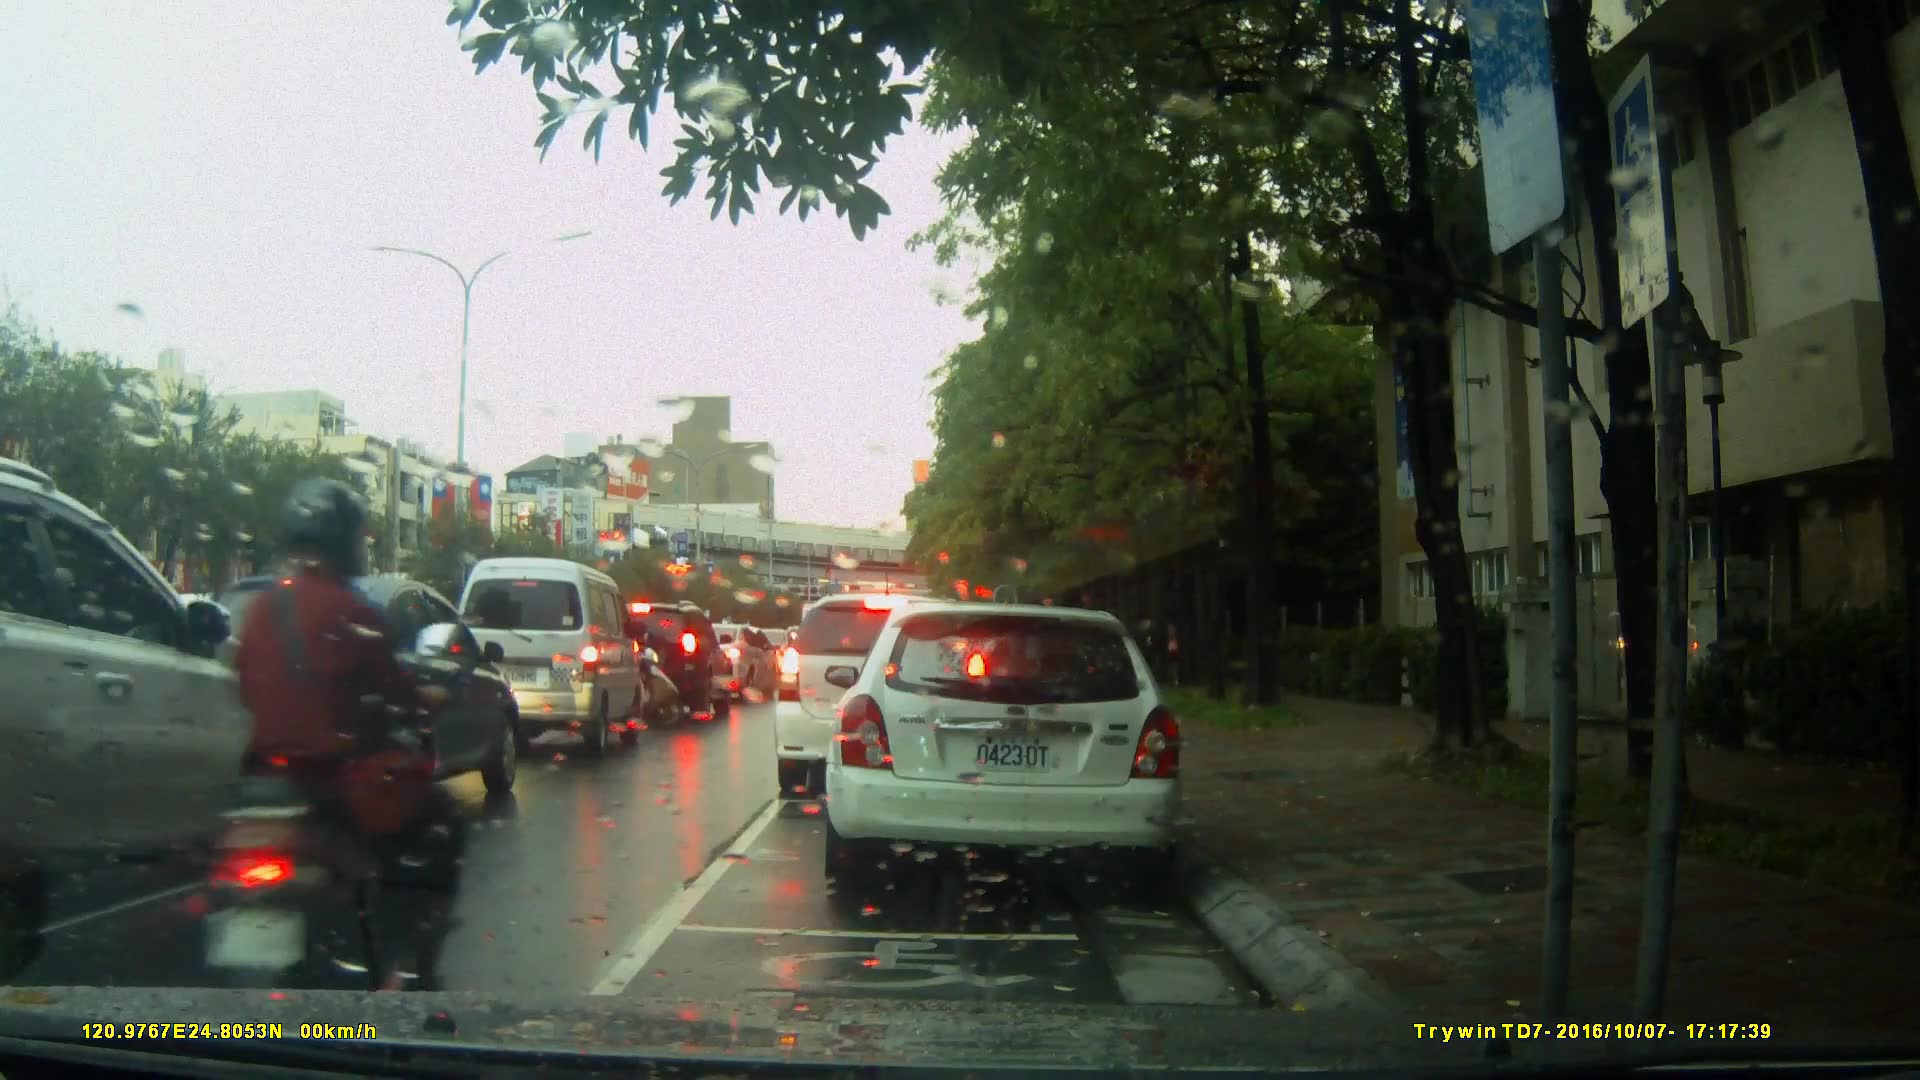rider: (193, 474, 491, 1039)
vehicle: (1, 453, 328, 985), (815, 593, 1204, 909), (176, 572, 524, 836), (770, 590, 995, 802), (444, 553, 647, 766), (583, 598, 739, 723)
